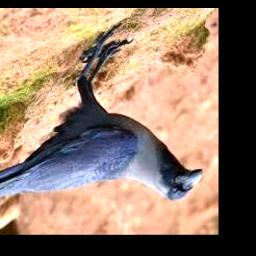Crow: (0, 24, 202, 202)
